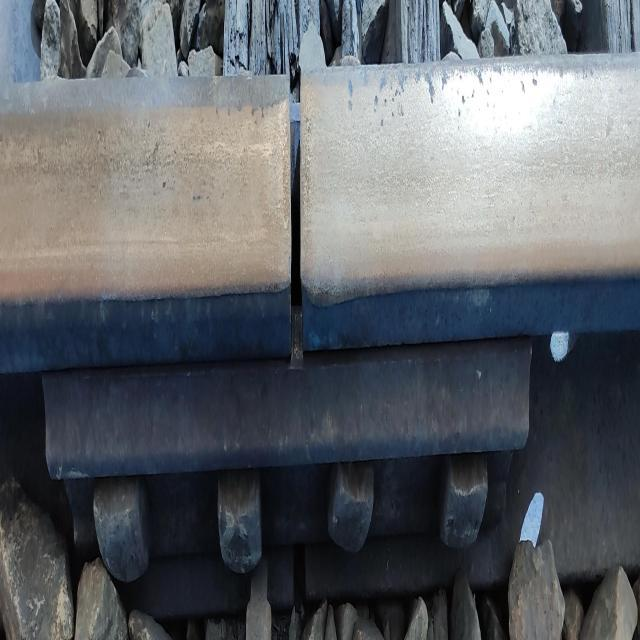Good Joint: (41, 334, 532, 600)
